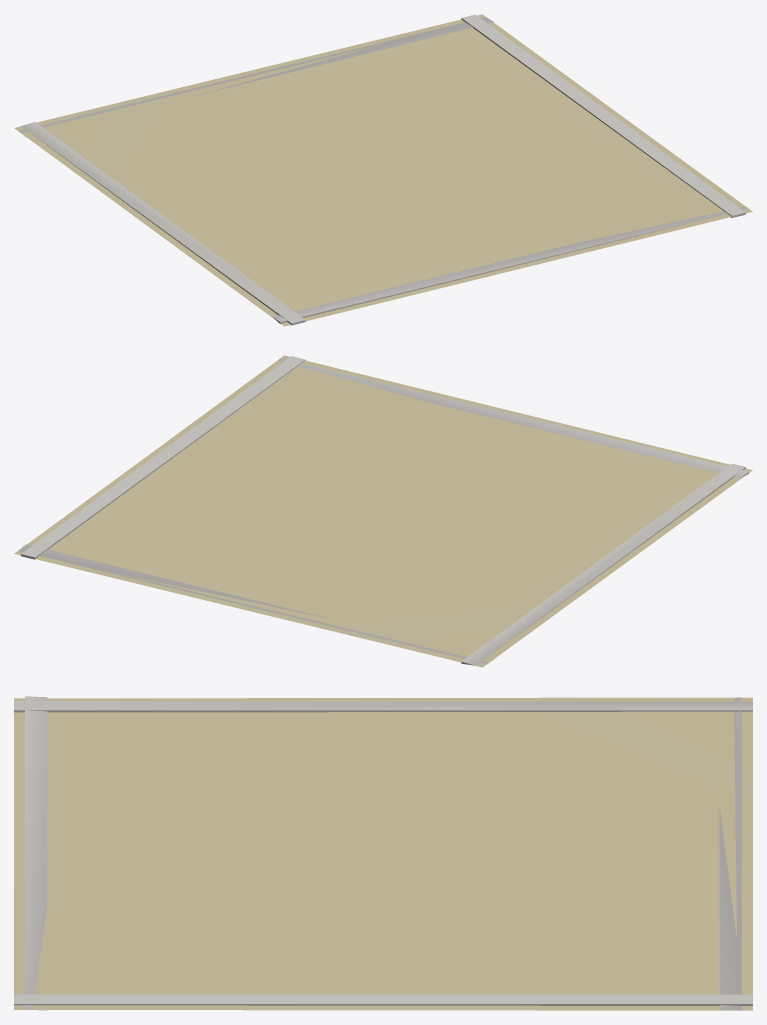
The model's file is shop_rug_zone__kitchen_low.glb.
3 views of the same model, one above another, from view 1: azimuth 30°, elevation 25°; view 2: azimuth 150°, elevation 25°; view 3: azimuth 270°, elevation 25° (orthographic). The views are drawn at different scales.
Bounding box in the file's own units: 4 × 0.018 × 4.
